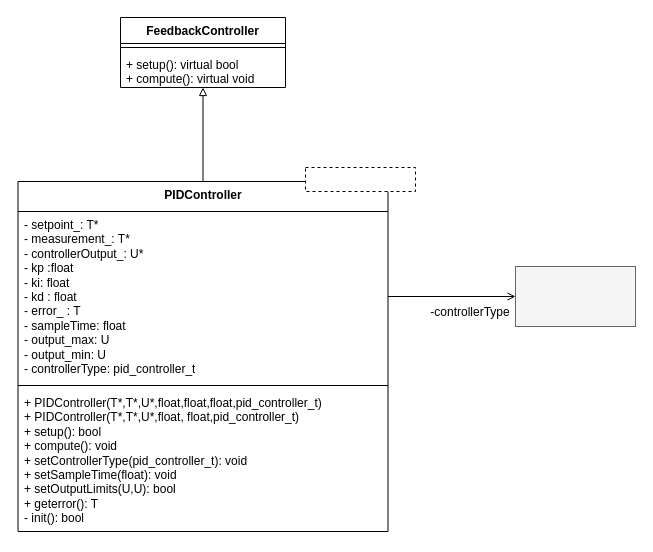
The diagram is 653 pixels wide and 552 high, and some of its shapes have lost their labels. The centre of each missing label's shape, as x and y in pixels:
"<<typedef>> pid_controller_t" belongs at point 575,296.
"T: typename, U: typename" belongs at point 360,179.
